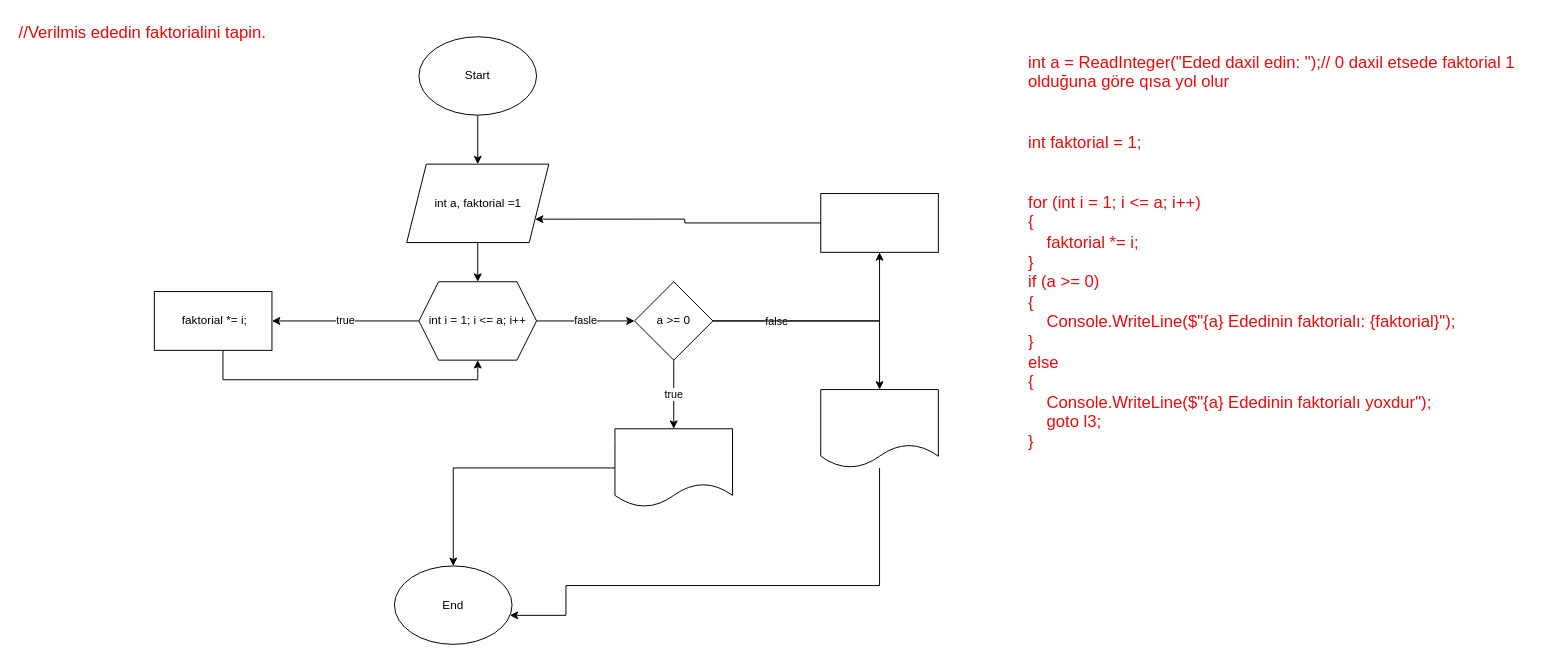
Some shapes in this 1562 by 662 pixel diagram are drawn without their labels. Here are the shapes that lost their labels. From the top down, the centre of each, then its label:
At point (879, 222): "goto l3;".
At point (879, 428): "{a} Ededinin faktorialı yoxdur".
At point (673, 467): "{a} Ededinin faktorialı: {faktorial}".
